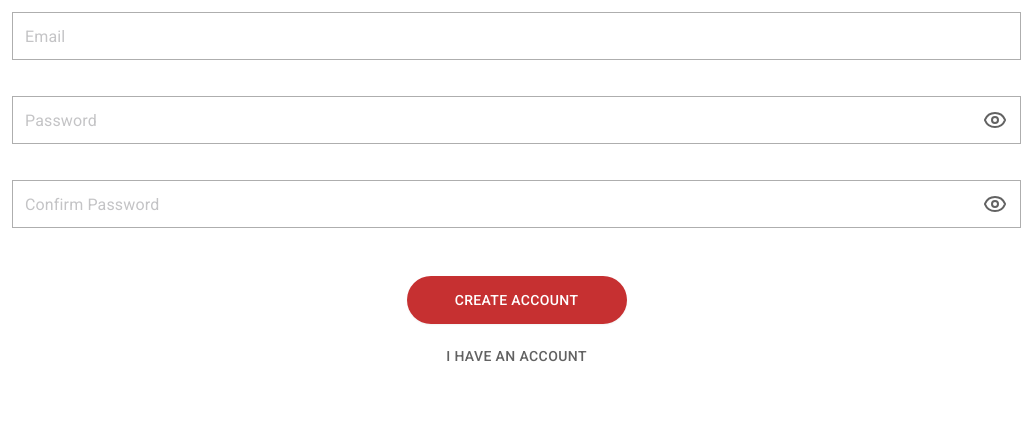
SignupForm Component › should display validation errors when submitting an empty form
Step 1. Click the button "CREATE ACCOUNT" → (516,300), box [406, 276, 626, 324]
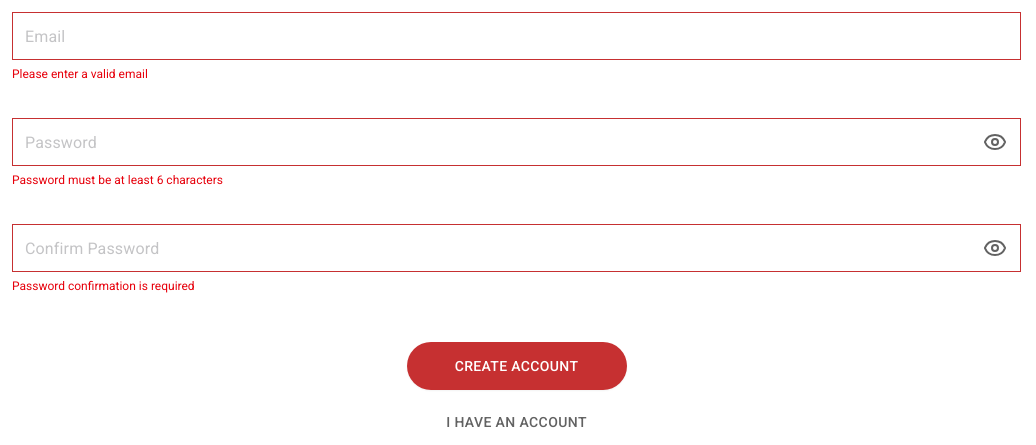
Check: the text "Please enter a valid email" is shown, box [12, 67, 148, 81]
